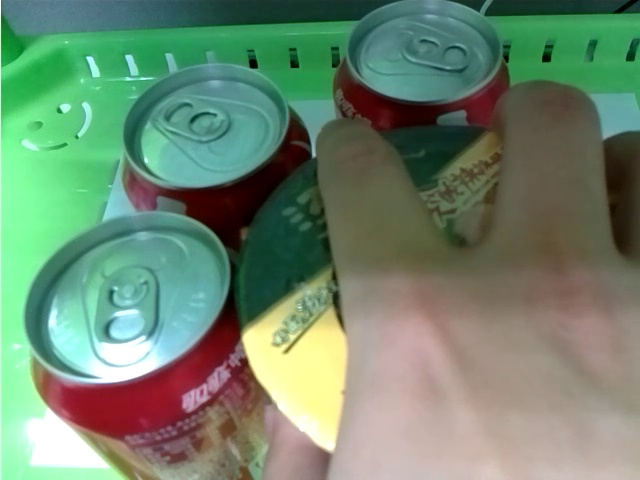cocacola: (18, 209, 267, 480), (115, 64, 312, 219), (332, 1, 509, 130)
hand: (311, 82, 640, 480)
noodles: (232, 129, 507, 454)
